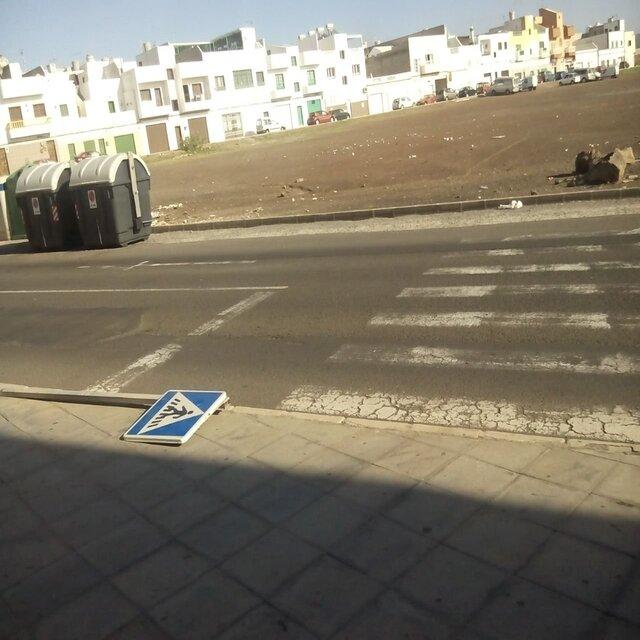Inclined Pole: (0, 376, 241, 454)
